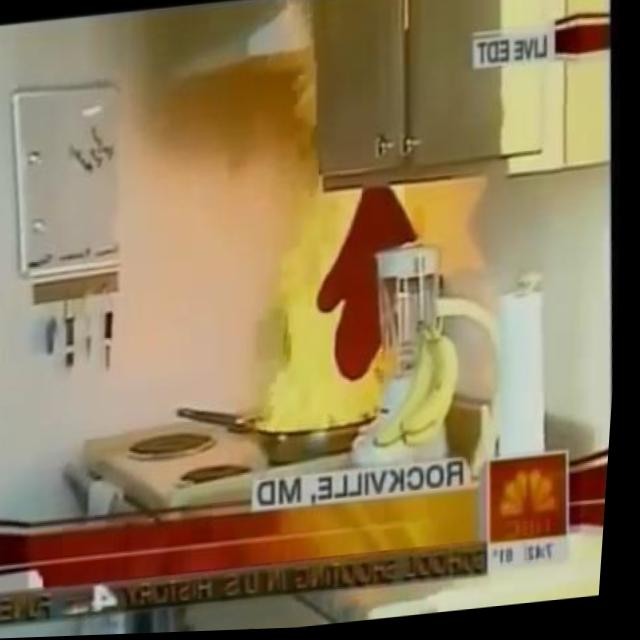fire: (234, 178, 411, 441)
